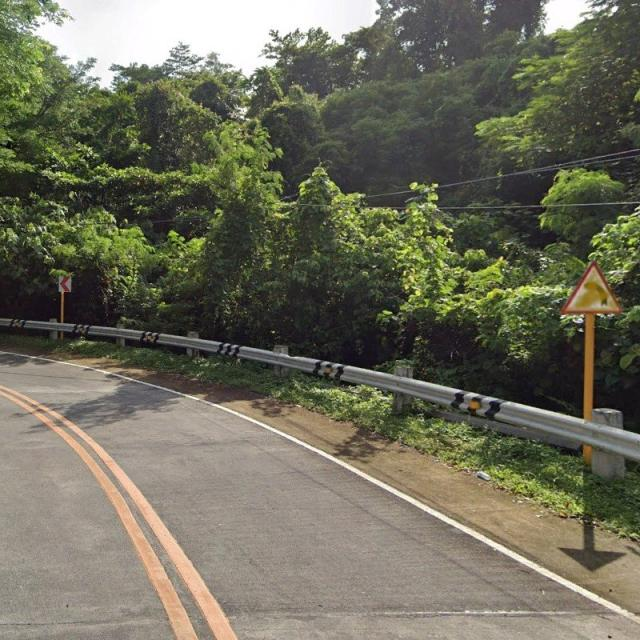warn_left_curve: (560, 261, 622, 313)
